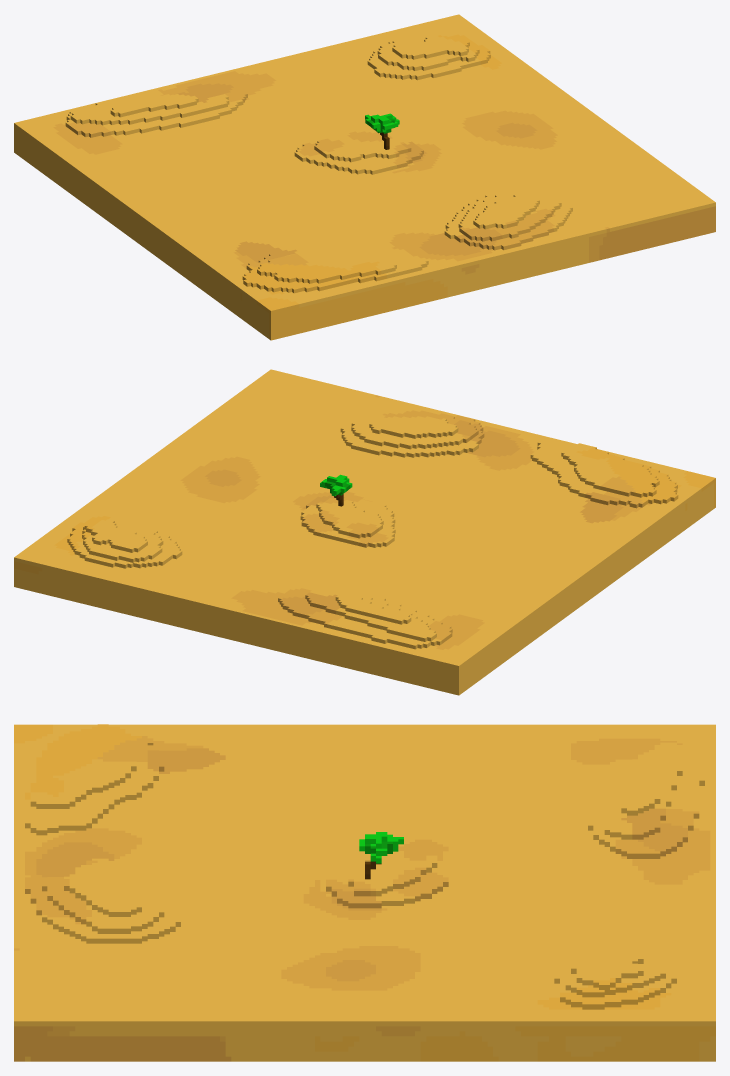
The model's file is Egypt-0.obj.
3 views of the same model, one above another, from view 1: azimuth 30°, elevation 25°; view 2: azimuth 150°, elevation 25°; view 3: azimuth 270°, elevation 25° (orthographic). The views are drawn at different scales.
Size of the model in its own units: 12.6 by 1.8 by 12.6.
Materials: 1 (1 with a texture image).
